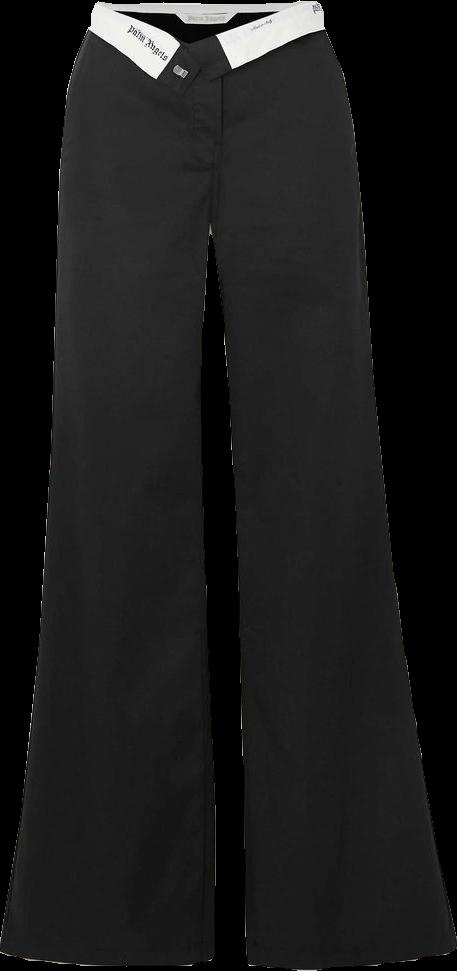Hemline: (242, 936, 456, 970), (0, 941, 220, 969)
Pantleg: (209, 0, 456, 968), (0, 2, 222, 966)
Waistline: (96, 0, 316, 49)
